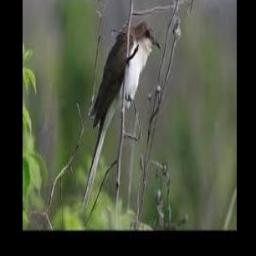Cuckoo: (81, 19, 161, 212)
